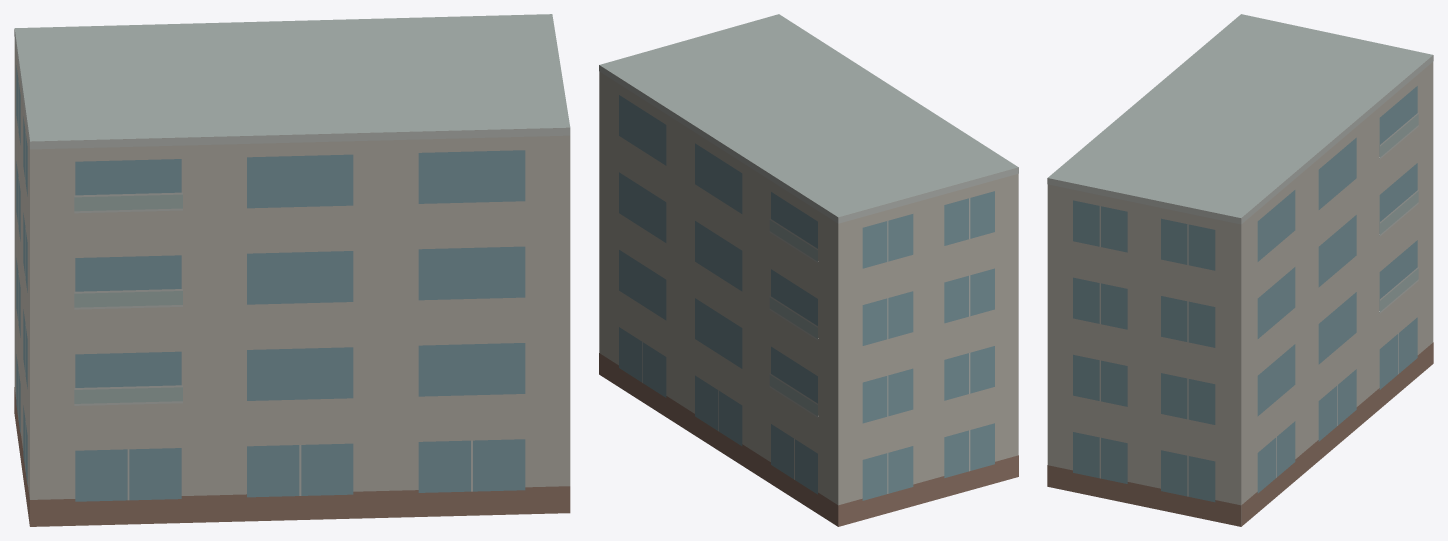
Rendered from survey-upis-32888306.glb.
3 views of the same model, side by side, from view 1: azimuth 30°, elevation 25°; view 2: azimuth 150°, elevation 25°; view 3: azimuth 270°, elevation 25° (orthographic). The views are drawn at different scales.
Visible parts, largest first — view 1: survey-upis-32888306.tmp; view 2: survey-upis-32888306.tmp; view 3: survey-upis-32888306.tmp.
Boxes of the visible parts, box(x1,y1,x2,y2) form: survey-upis-32888306.tmp: box(14, 14, 570, 526); survey-upis-32888306.tmp: box(599, 14, 1018, 526); survey-upis-32888306.tmp: box(1047, 14, 1433, 526).
Size of the model in its own units: 16.75 by 11.8 by 13.38.
